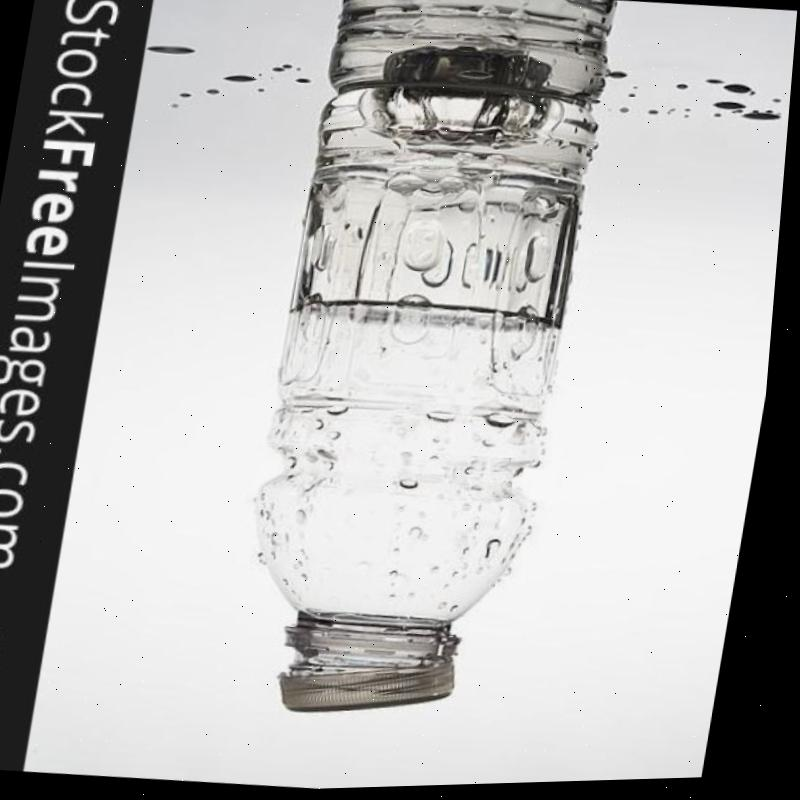botella: (230, 71, 609, 735)
